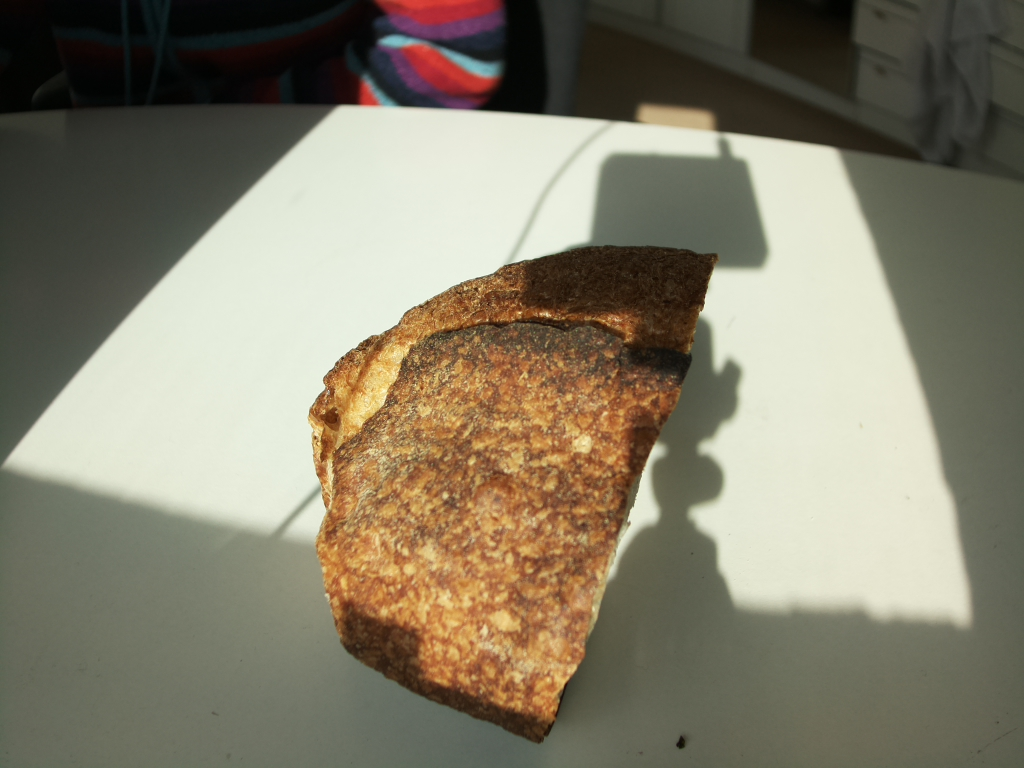bread: (305, 242, 719, 742)
